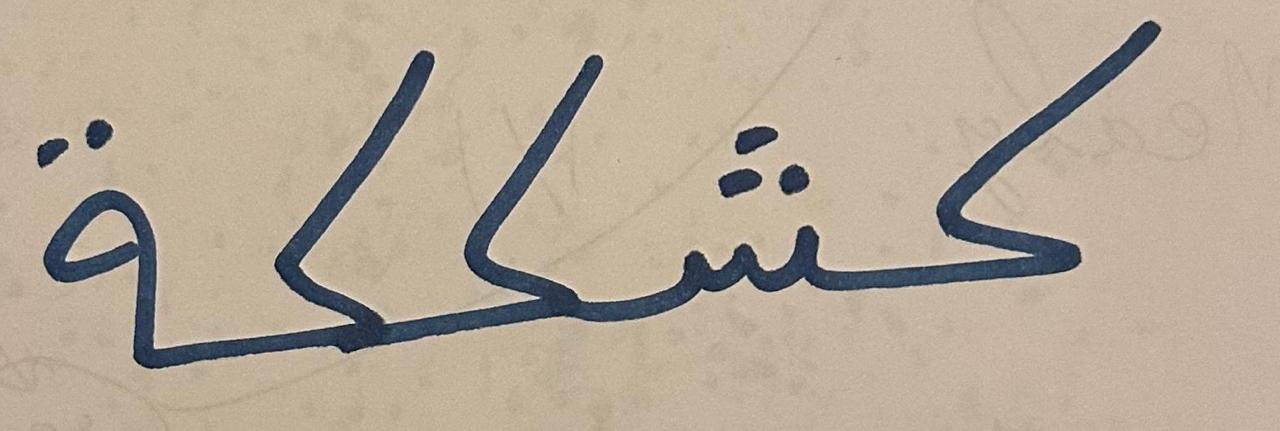khah: (900, 7, 1205, 358), (218, 12, 457, 400), (462, 19, 639, 381)
tah: (645, 22, 893, 358)
thal: (9, 30, 214, 406)
